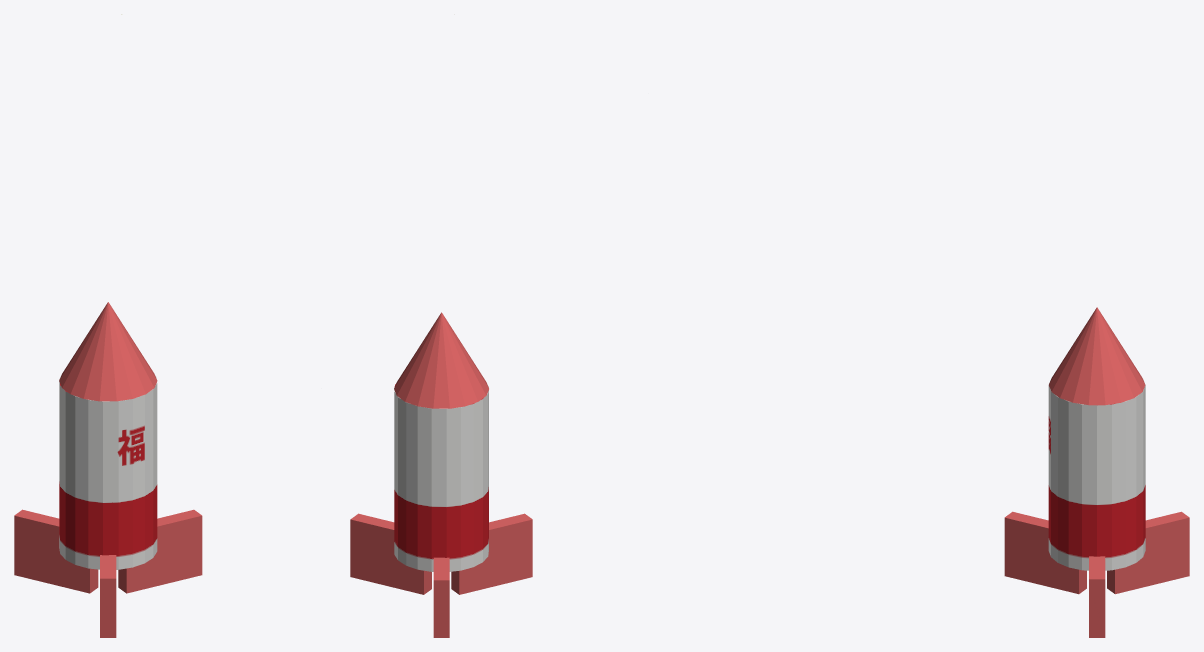
File: rocket_hazure_3d.glb
The picture shows the model from 3 angles, left to right: view 1: azimuth 30°, elevation 25°; view 2: azimuth 150°, elevation 25°; view 3: azimuth 270°, elevation 25°; orthographic projection. The views are drawn at different scales.
Visible parts, largest first — view 1: rocket_body, rocket_nose, rocket_fin_0, rocket_fin_1, rocket_fin_2; view 2: rocket_body, rocket_nose, rocket_fin_0, rocket_fin_2, rocket_fin_1; view 3: rocket_body, rocket_nose, rocket_fin_1, rocket_fin_2, rocket_fin_0.
Part boxes in pixels (x1,y1,x2,y2): rocket_body: [59, 376, 157, 569]; rocket_nose: [59, 302, 157, 401]; rocket_fin_0: [118, 509, 202, 593]; rocket_fin_1: [14, 509, 98, 593]; rocket_fin_2: [100, 555, 116, 637]; rocket_body: [394, 384, 488, 571]; rocket_nose: [394, 312, 488, 408]; rocket_fin_0: [350, 513, 431, 594]; rocket_fin_2: [451, 513, 532, 594]; rocket_fin_1: [433, 557, 449, 637]; rocket_body: [1048, 379, 1145, 570]; rocket_nose: [1049, 307, 1145, 405]; rocket_fin_1: [1107, 511, 1189, 594]; rocket_fin_2: [1004, 511, 1086, 594]; rocket_fin_0: [1089, 556, 1105, 637].
Size of the model in its own units: 0.298 by 1.19 by 0.952.
Materials: 10 (4 with a texture image).
